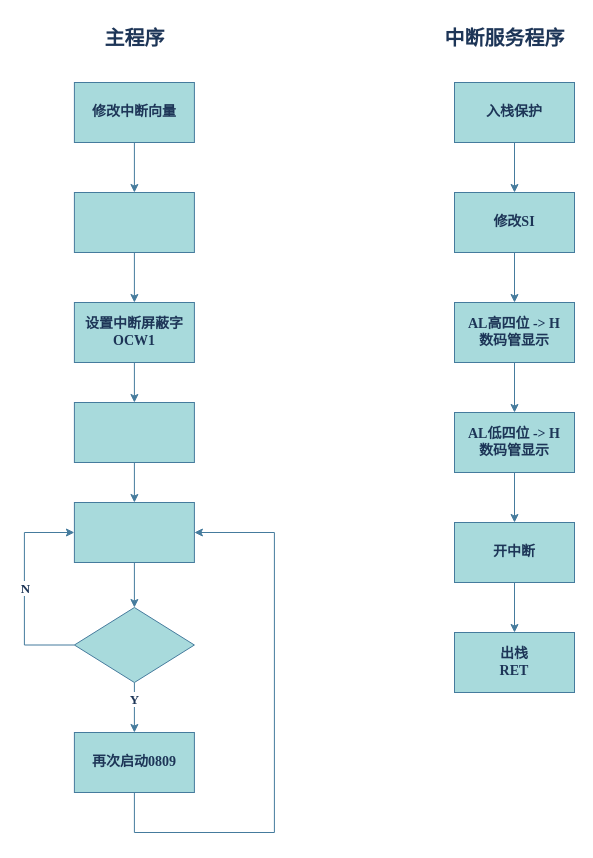
Some shapes in this 593 by 858 pixel diagram are drawn without their labels. The centre of each missing label's shape, as x and y in pixels:
298H端口送数 启动A/D转换器: pixel 133 432
初始化8255: pixel 133 222
开中断 跳转至中断服务程序: pixel 133 532
转换是否完成？: pixel 133 644
